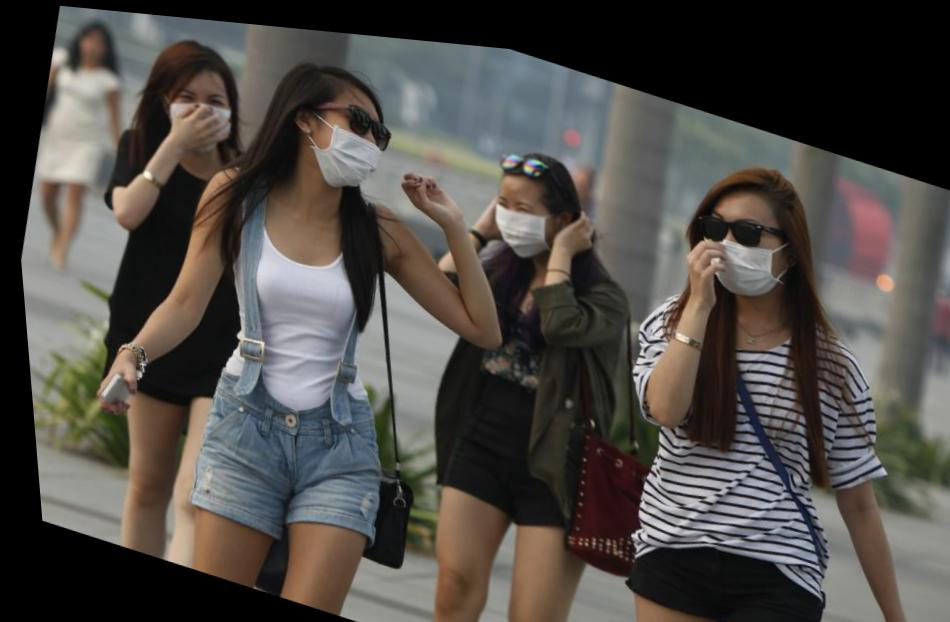OK: (687, 183, 786, 291), (158, 74, 237, 152), (480, 180, 559, 258)
WRONG: (302, 88, 391, 193)
